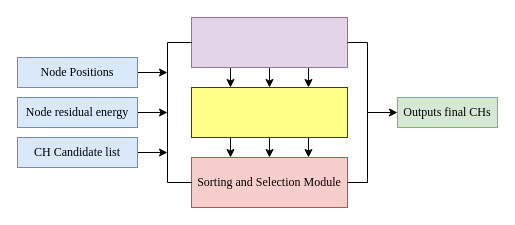
Some shapes in this 515 by 225 pixel diagram are drawn without their labels. Here are the shapes that lost their labels. From the top down, the centre of each, then its label:
At point 269,42: "Computation Unit (E, Hi, di)".
At point 269,112: "Utility Estimation Unit (Ui)".
